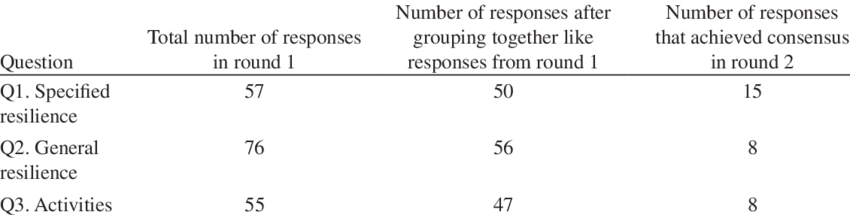fracking table: (1, 1, 850, 215)
